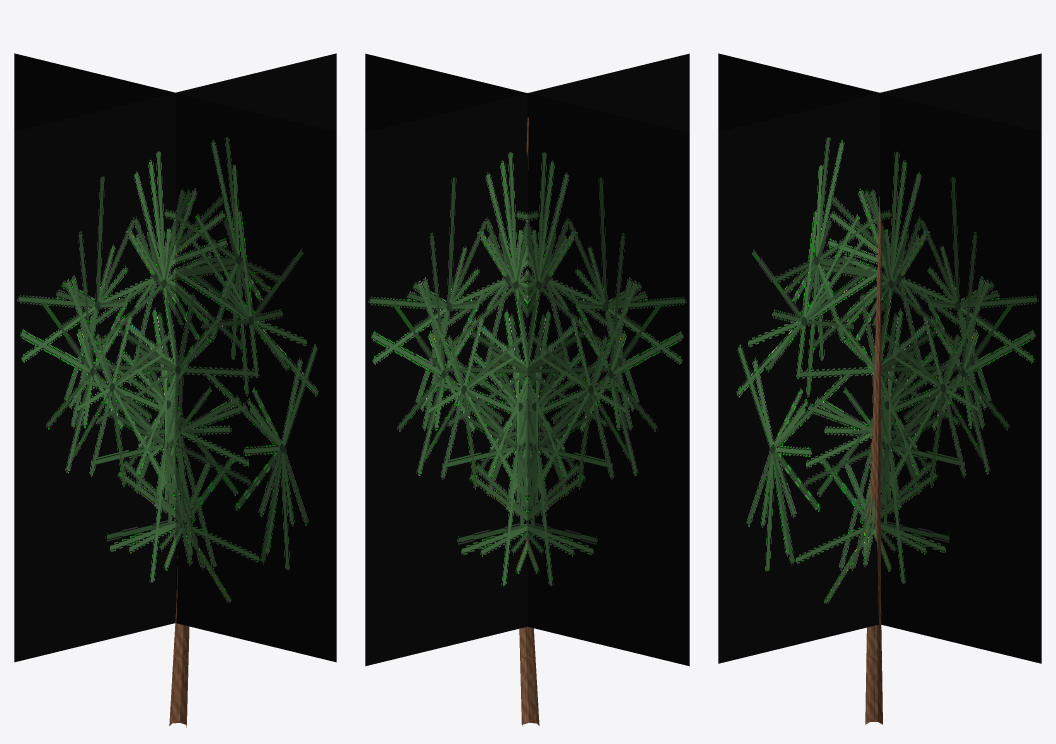
The model's file is Pine_Young_LOD2.glb.
The picture shows the model from 3 angles, left to right: view 1: azimuth 30°, elevation 25°; view 2: azimuth 150°, elevation 25°; view 3: azimuth 270°, elevation 25°; orthographic projection.
Parts seen in each view (by area): view 1: Foliage_Cross_0, Foliage_Cross_1, Trunk_Mesh; view 2: Foliage_Cross_2, Foliage_Cross_0, Trunk_Mesh; view 3: Foliage_Cross_2, Foliage_Cross_1, Trunk_Mesh.
Boxes of the visible parts, x1,y1,x2,y2 form: Foliage_Cross_0: (14, 53, 336, 662); Foliage_Cross_1: (14, 53, 336, 662); Trunk_Mesh: (169, 555, 189, 727); Foliage_Cross_2: (365, 53, 689, 666); Foliage_Cross_0: (365, 53, 689, 666); Trunk_Mesh: (519, 117, 539, 726); Foliage_Cross_2: (718, 53, 1041, 663); Foliage_Cross_1: (718, 53, 1041, 663); Trunk_Mesh: (865, 197, 882, 724).
Bounding box in the file's own units: 6.39 × 11.97 × 5.54.
2 materials, 2 textured.
